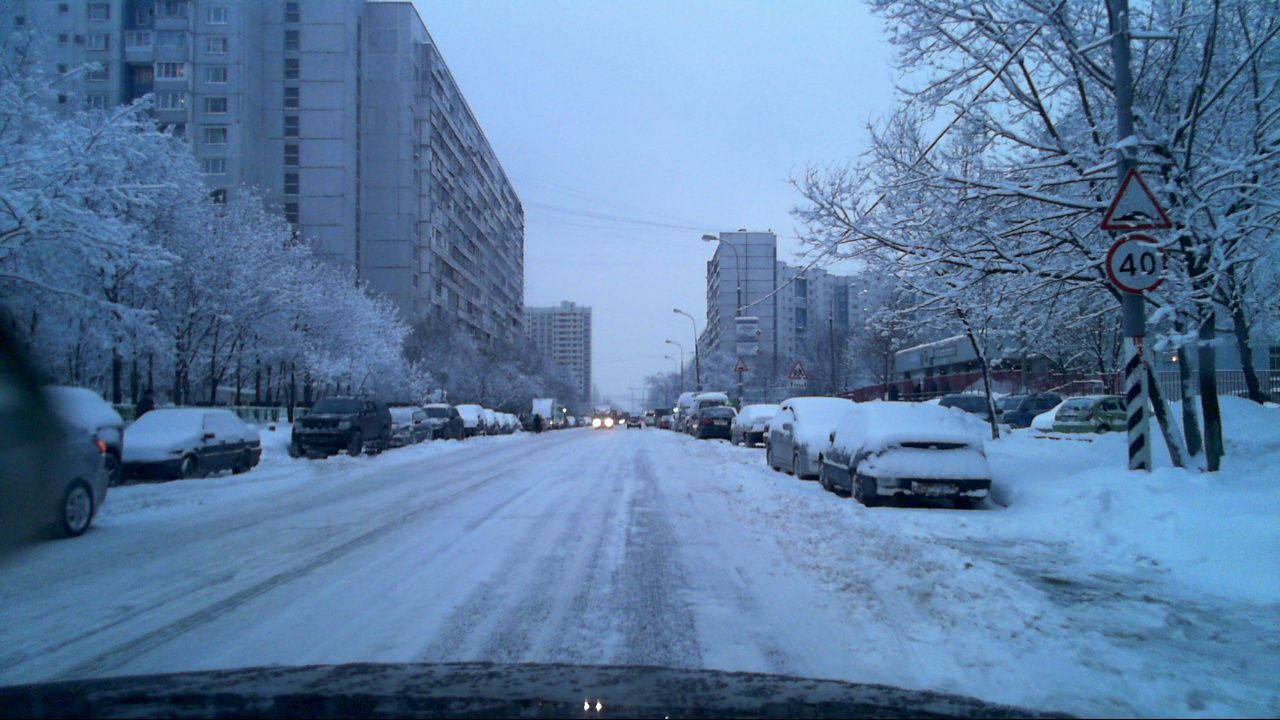speed_warning_40: (1103, 230, 1173, 295)
